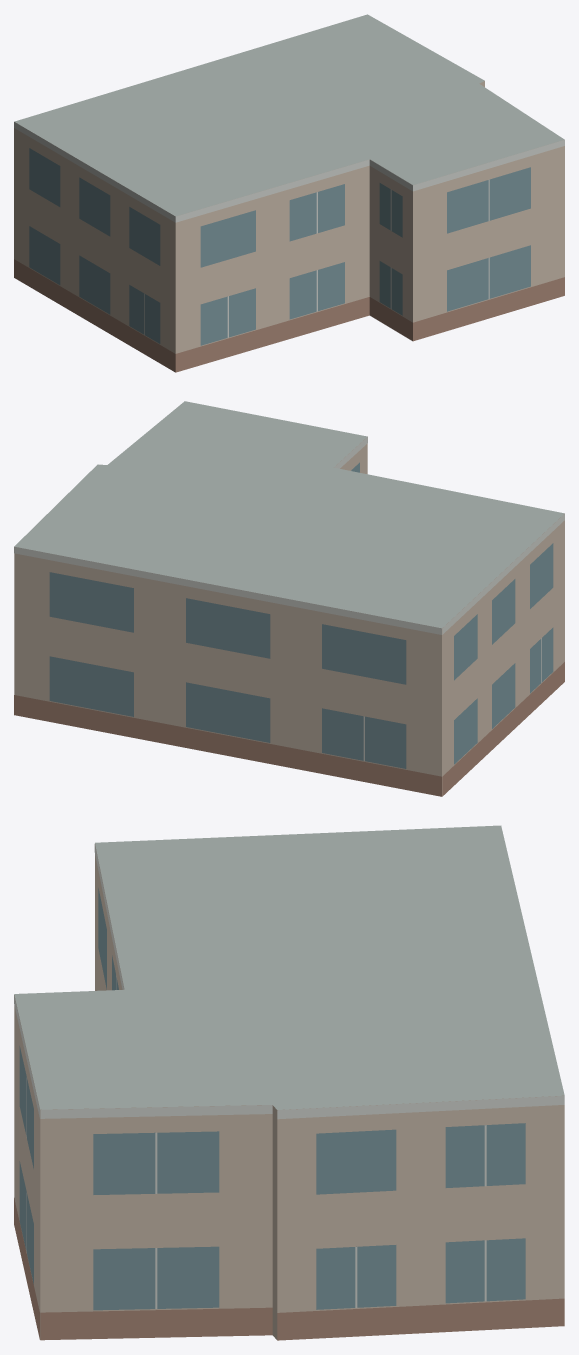
Rendered from survey-upis-32490793.glb.
3 views of the same model, one above another, from view 1: azimuth 30°, elevation 25°; view 2: azimuth 150°, elevation 25°; view 3: azimuth 270°, elevation 25° (orthographic). The views are drawn at different scales.
Parts seen in each view (by area): view 1: survey-upis-32490793.tmp; view 2: survey-upis-32490793.tmp; view 3: survey-upis-32490793.tmp.
Part boxes in pixels (x1,y1,x2,y2): survey-upis-32490793.tmp: [14, 14, 564, 372]; survey-upis-32490793.tmp: [14, 401, 564, 796]; survey-upis-32490793.tmp: [14, 825, 564, 1340].
Bounding box in the file's own units: 16.17 × 6.1 × 13.22.
